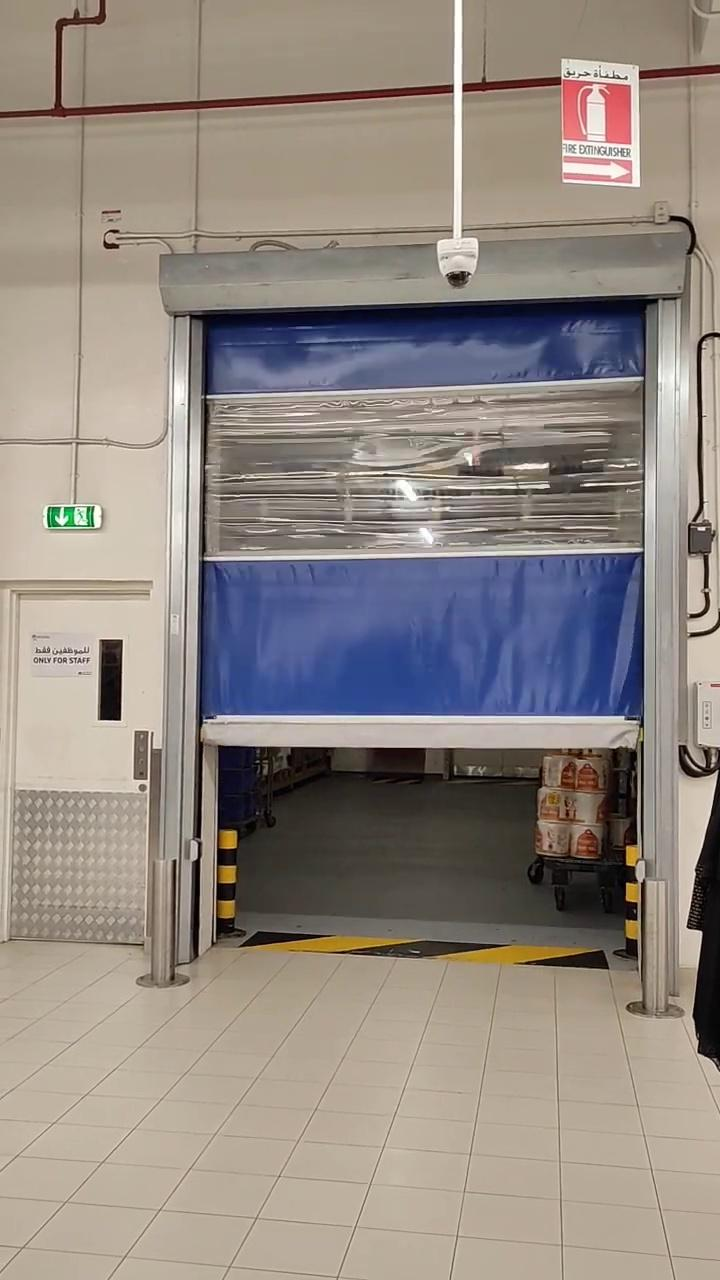Strip: (246, 923, 613, 979)
